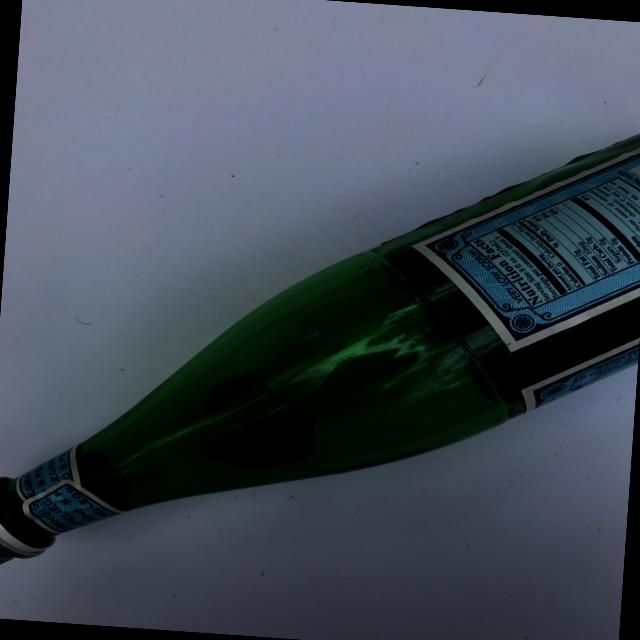Glass: (0, 80, 640, 637)
